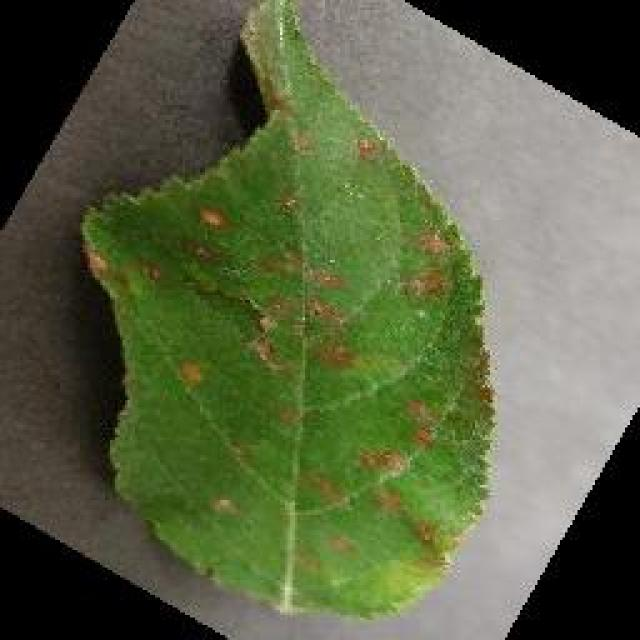apple healthy: (78, 0, 498, 620)
